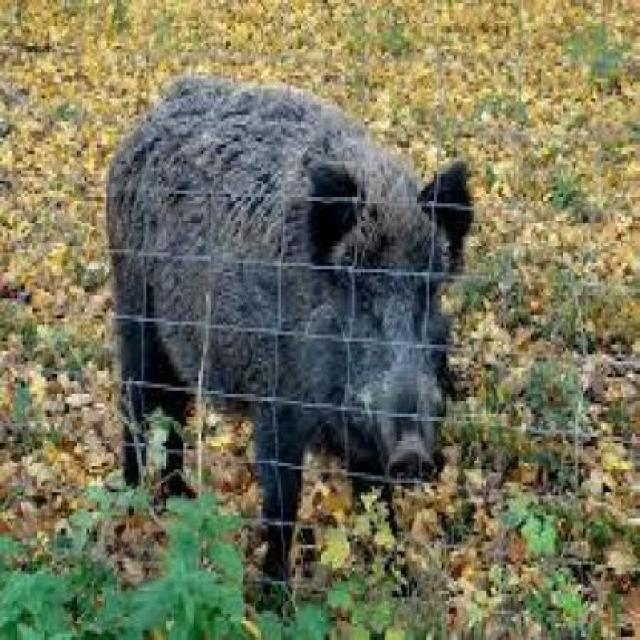wildboar: (100, 68, 477, 603)
